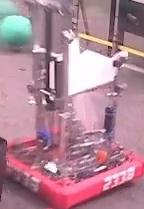red_number: (100, 165, 136, 193)
